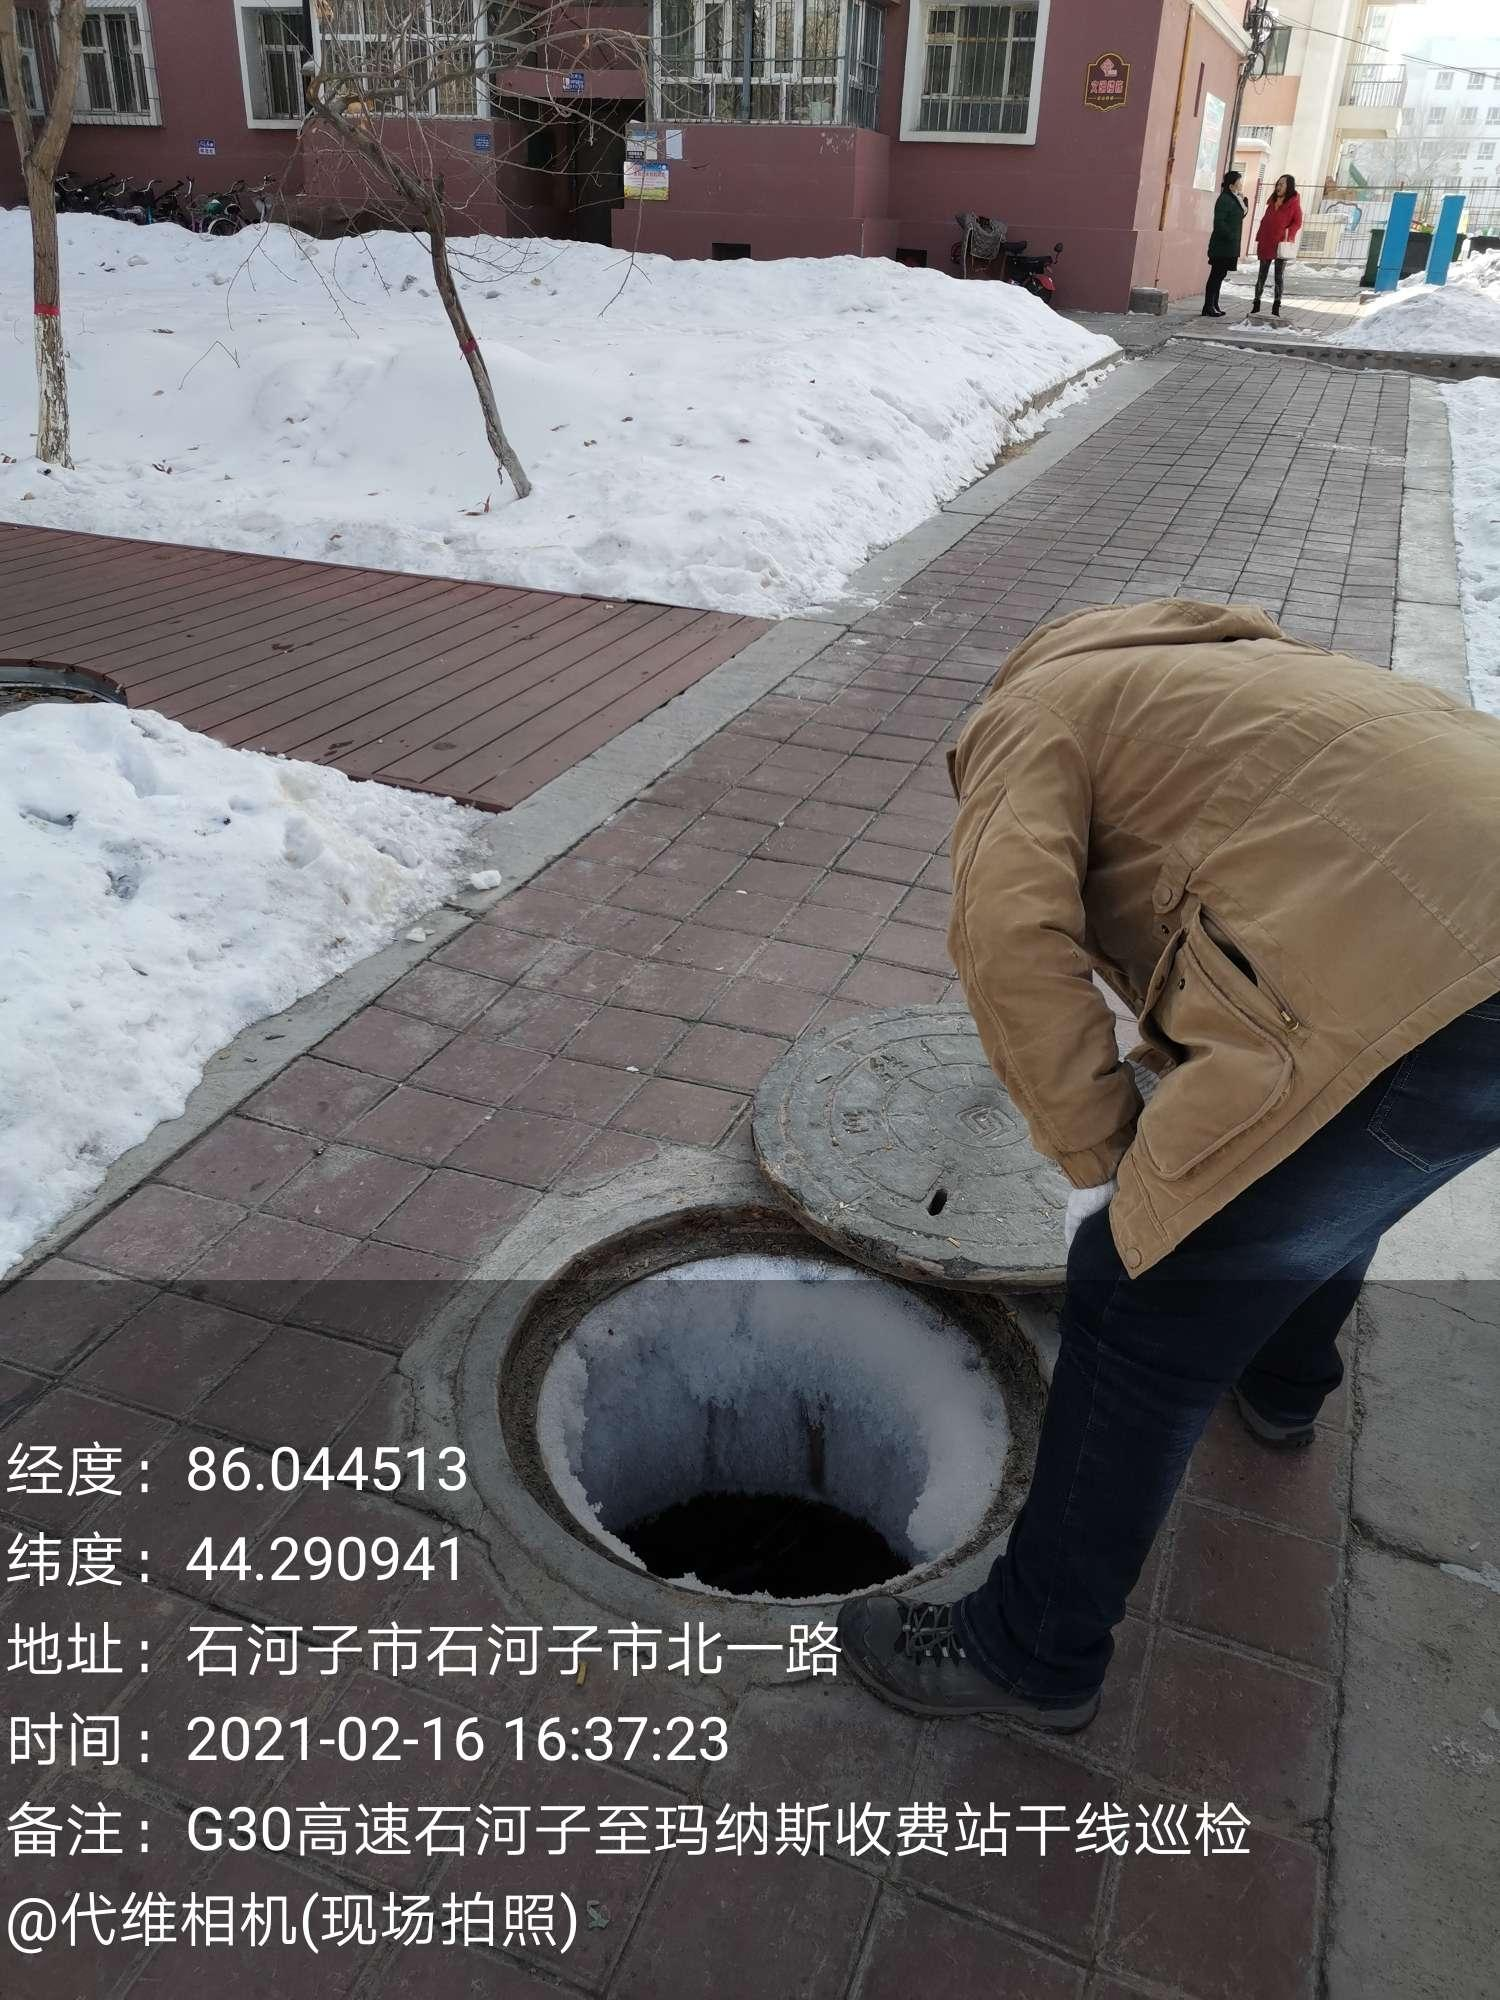wellcover: (471, 891, 1150, 1624)
